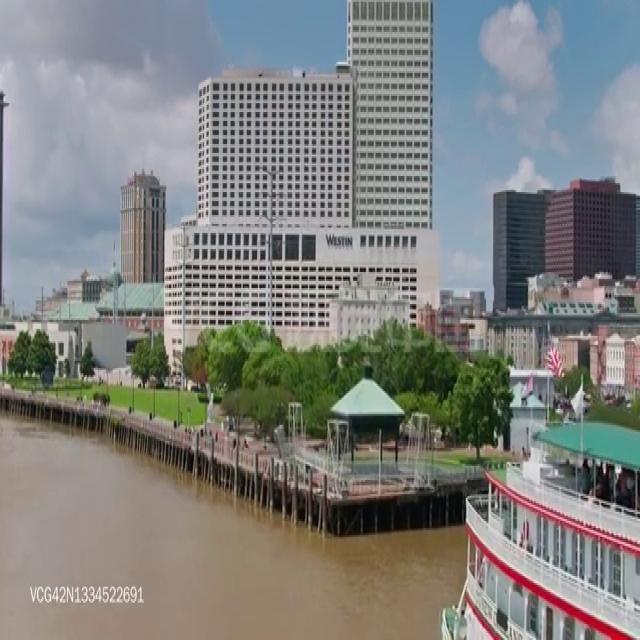passenger ship: (442, 409, 640, 640)
